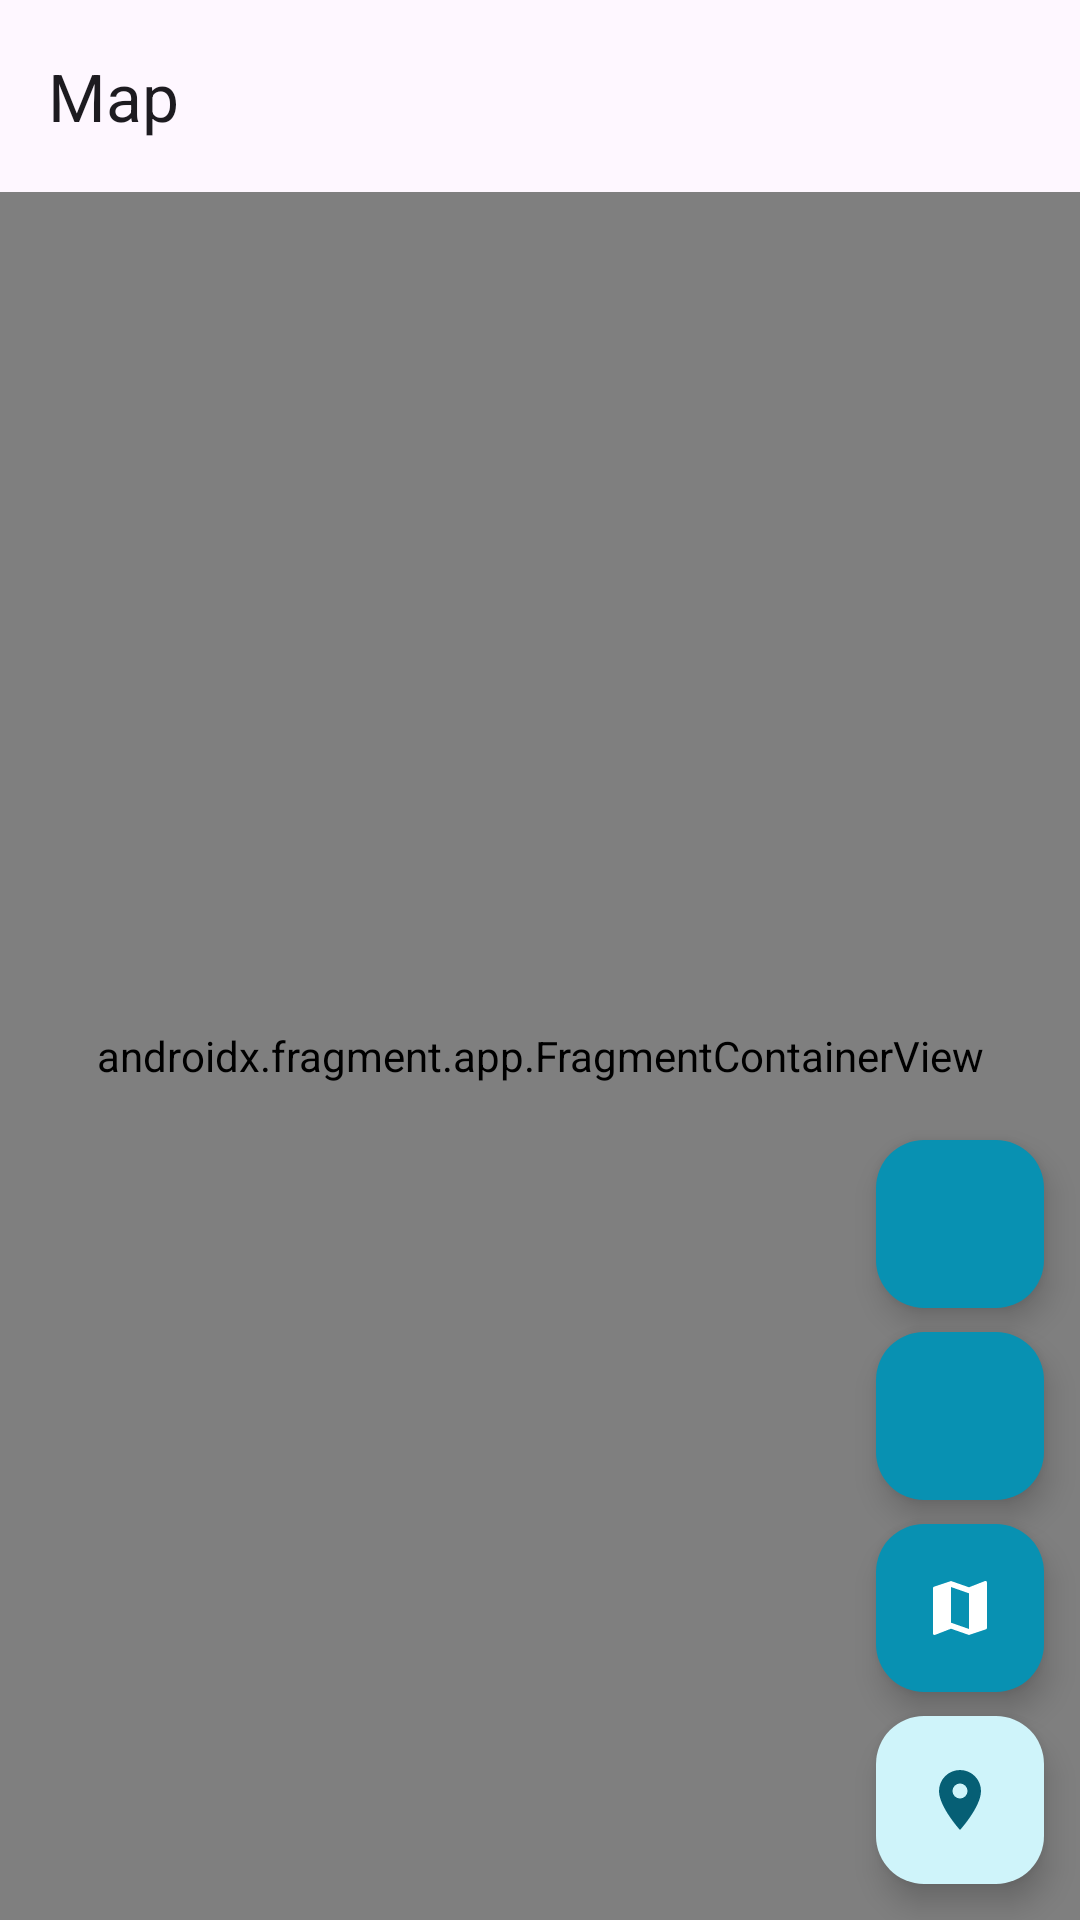

Icon bounding boxes for this 1080px×1920px phone screenshot, format BBox(x1, y1, x2, y2):
Current location: BBox(876, 1716, 1044, 1884)
Switch map type: BBox(876, 1524, 1044, 1692)
